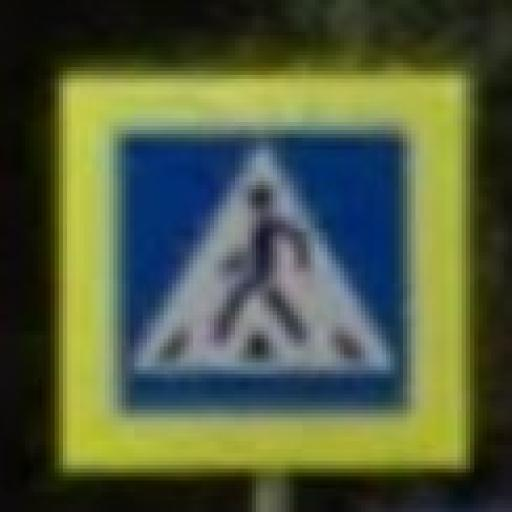traffic_sign: (52, 64, 480, 478)
